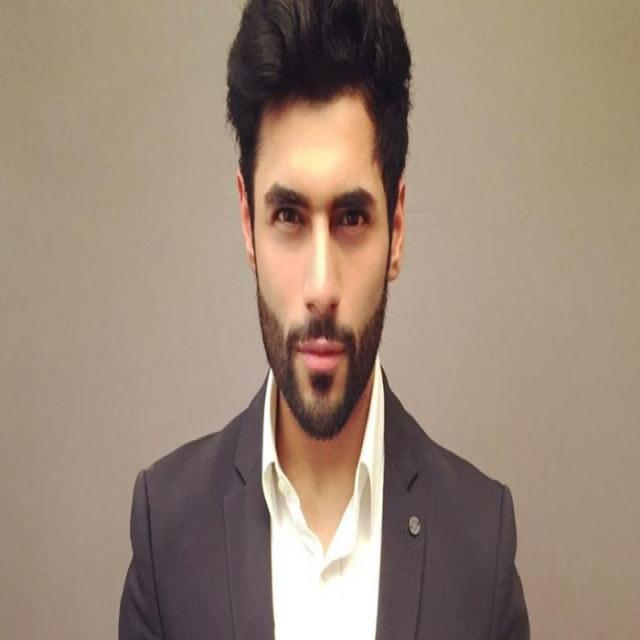human: (109, 1, 541, 640)
